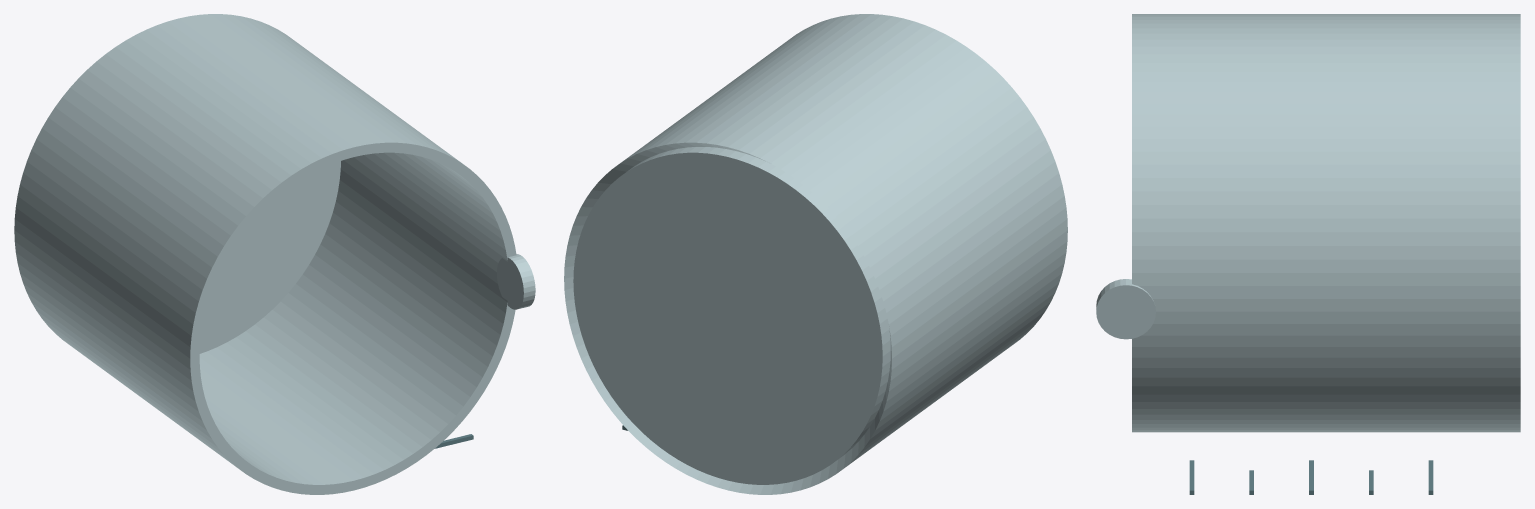
Rendered from modelo.glb.
3 renders of one model, left to right at view 1: azimuth 30°, elevation 25°; view 2: azimuth 150°, elevation 25°; view 3: azimuth 270°, elevation 25°, orthographic. The views are drawn at different scales.
Parts seen in each view (by area): view 1: BeakerGlass, GlassBottom, PourSpout; view 2: BeakerGlass, GlassBottom; view 3: BeakerGlass, PourSpout.
Boxes of the visible parts, bbox=[...] form: BeakerGlass: bbox=[14, 14, 516, 494]; GlassBottom: bbox=[199, 161, 340, 353]; PourSpout: bbox=[497, 254, 535, 309]; BeakerGlass: bbox=[564, 14, 1067, 494]; GlassBottom: bbox=[573, 147, 890, 484]; BeakerGlass: bbox=[1132, 14, 1520, 432]; PourSpout: bbox=[1096, 279, 1155, 339].
Size of the model in its own units: 0.0703 by 0.0707 by 0.071.
